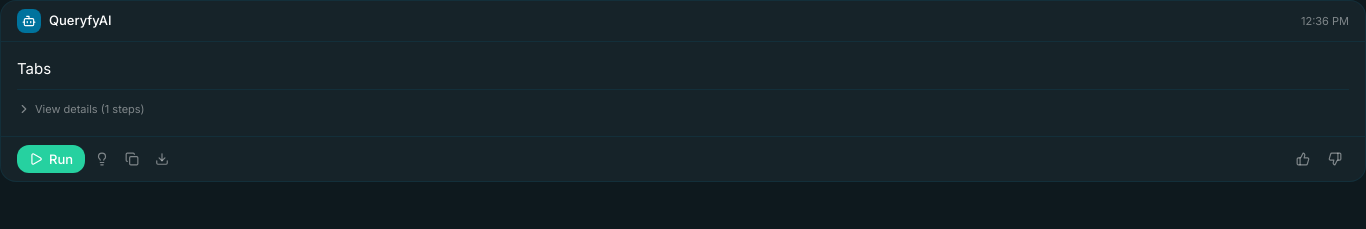
Scenario: AIResponseCard › Details Section › toggles details visibility when clicked
The width and height of the screenshot is (1366, 229).
Click the button with class "details-toggle" at point(81, 108), box x1=17 y1=98 x2=145 y2=120
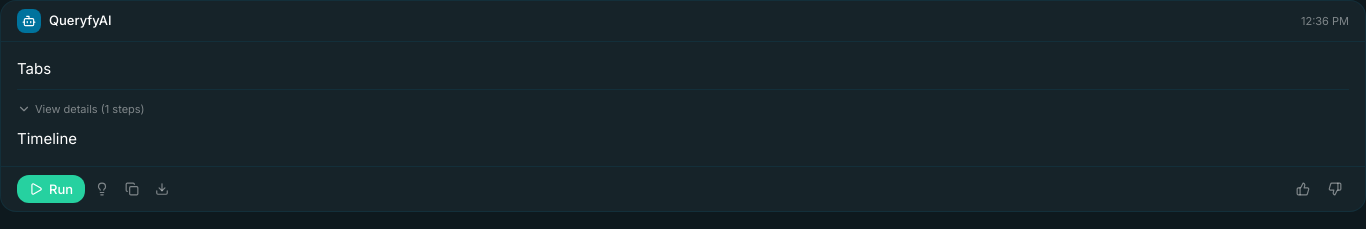
Now the element with class "details-content" is shown, box x1=17 y1=128 x2=77 y2=148
